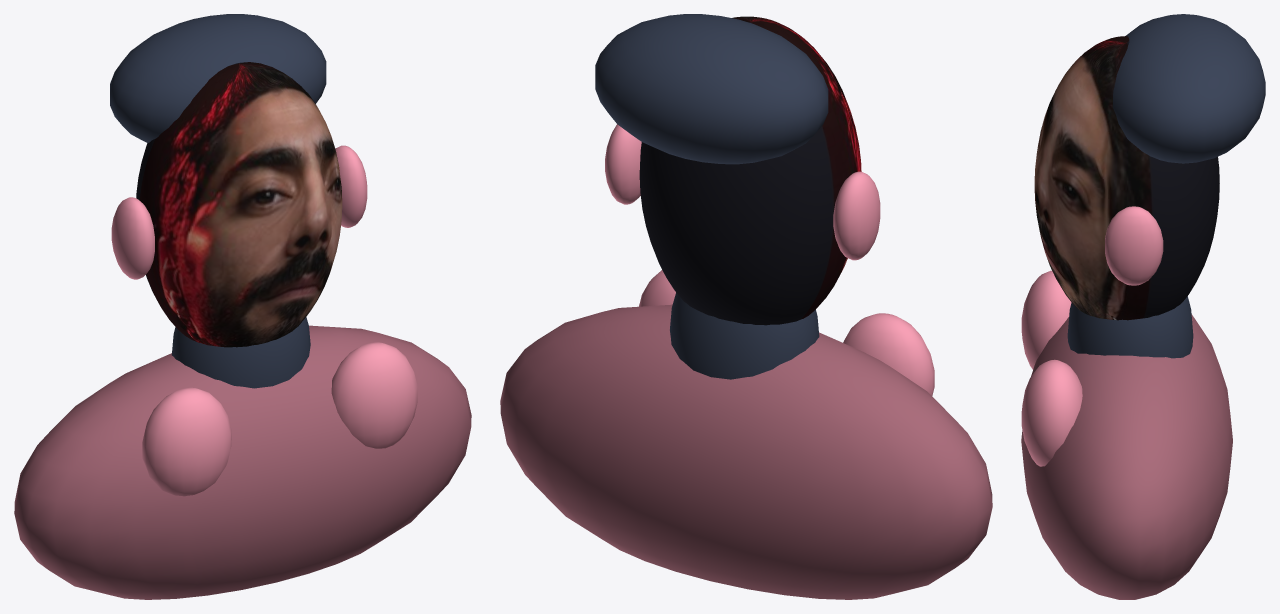
The model's file is performer.glb.
3 views of the same model, side by side, from view 1: azimuth 30°, elevation 25°; view 2: azimuth 150°, elevation 25°; view 3: azimuth 270°, elevation 25° (orthographic). The views are drawn at different scales.
Size of the model in its own units: 1.53 by 1.68 by 0.7386.
Materials: 4 (1 with a texture image).
